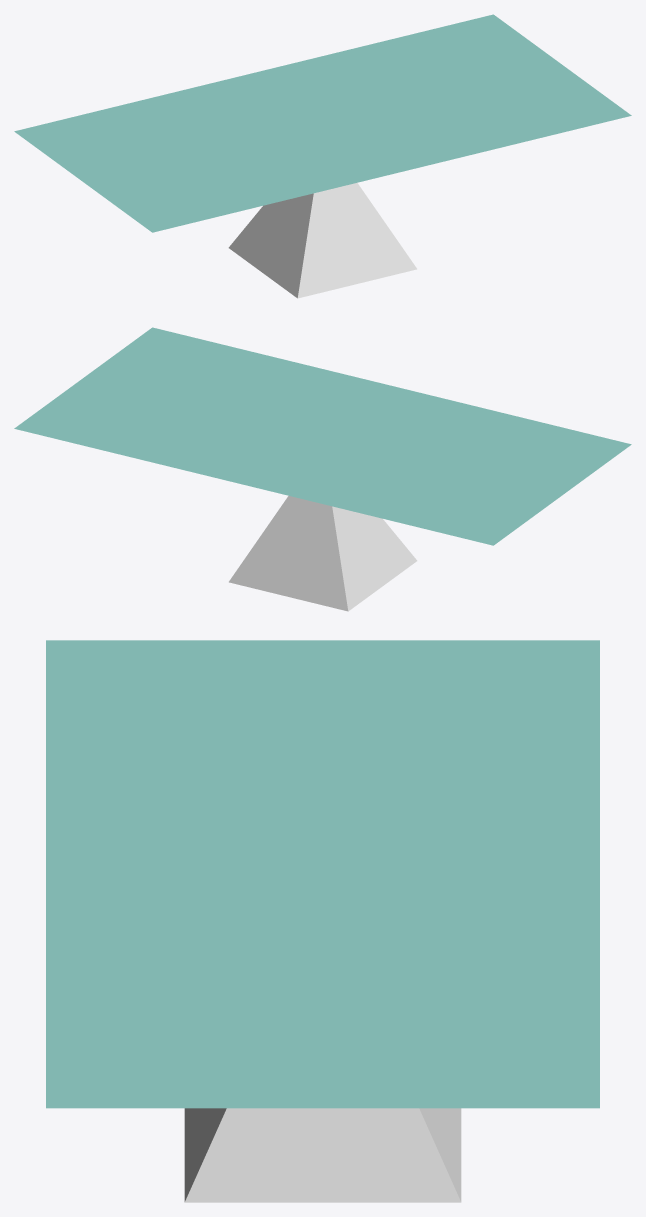
The model's file is desk_6.fbx.
The picture shows the model from 3 angles, top to bottom: view 1: azimuth 30°, elevation 25°; view 2: azimuth 150°, elevation 25°; view 3: azimuth 270°, elevation 25°; orthographic projection. The views are drawn at different scales.
Visible parts, largest first — view 1: Plane_1; view 2: Plane_1; view 3: Plane_1.
Part boxes in pixels (x1,y1,x2,y2): Plane_1: (14, 14, 631, 298); Plane_1: (14, 327, 631, 611); Plane_1: (46, 640, 599, 1202).
Bounding box in the file's own units: 546 × 147 × 273.
